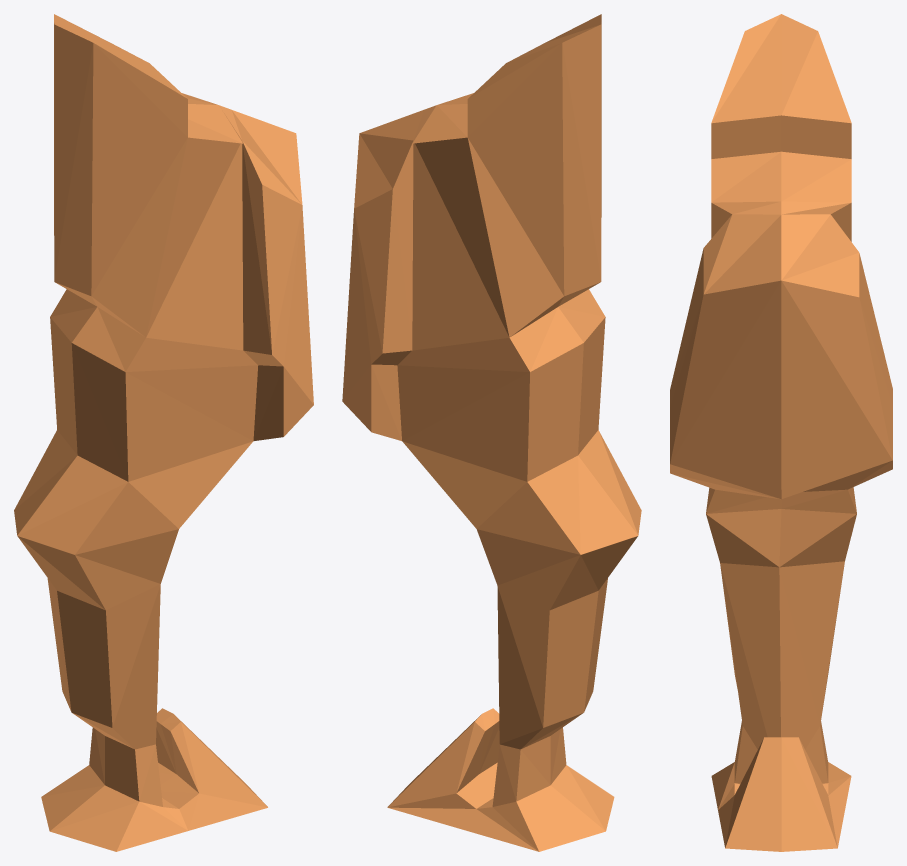
File: Rock_Large_Canyon_Eroded_18.FBX
3 views of the same model, side by side, from view 1: azimuth 30°, elevation 25°; view 2: azimuth 150°, elevation 25°; view 3: azimuth 270°, elevation 25° (orthographic). The views are drawn at different scales.
Parts seen in each view (by area): view 1: Rock_Large_Canyon_Eroded_18; view 2: Rock_Large_Canyon_Eroded_18; view 3: Rock_Large_Canyon_Eroded_18.
Boxes of the visible parts, x1,y1,x2,y2 form: Rock_Large_Canyon_Eroded_18: (14,14,313,851); Rock_Large_Canyon_Eroded_18: (342,14,641,851); Rock_Large_Canyon_Eroded_18: (670,14,892,851).
Size of the model in its own units: 4861 by 13415 by 3606.
